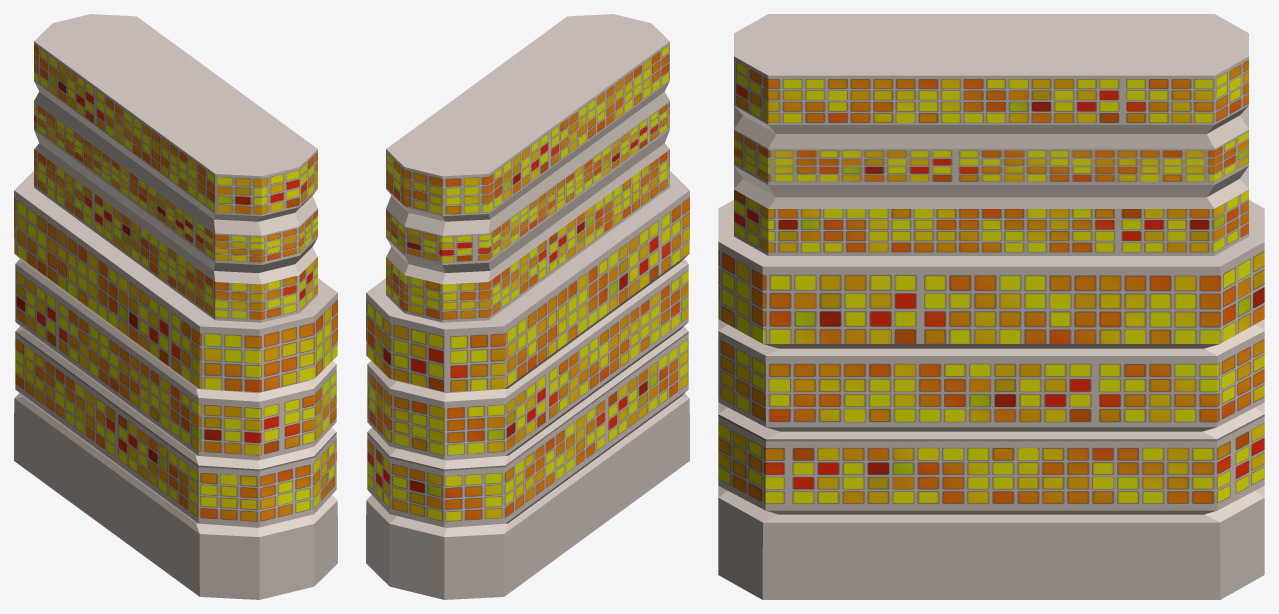
The model's file is Tall_B_11.fbx.
3 renders of one model, left to right at view 1: azimuth 30°, elevation 25°; view 2: azimuth 150°, elevation 25°; view 3: azimuth 270°, elevation 25°, orthographic. The views are drawn at different scales.
Parts seen in each view (by area): view 1: Tall_B_11; view 2: Tall_B_11; view 3: Tall_B_11.
Boxes of the visible parts, x1,y1,x2,y2 form: Tall_B_11: (14,14,337,599); Tall_B_11: (366,14,689,599); Tall_B_11: (718,14,1264,599).
Size of the model in its own units: 5492 by 15847 by 15284.
